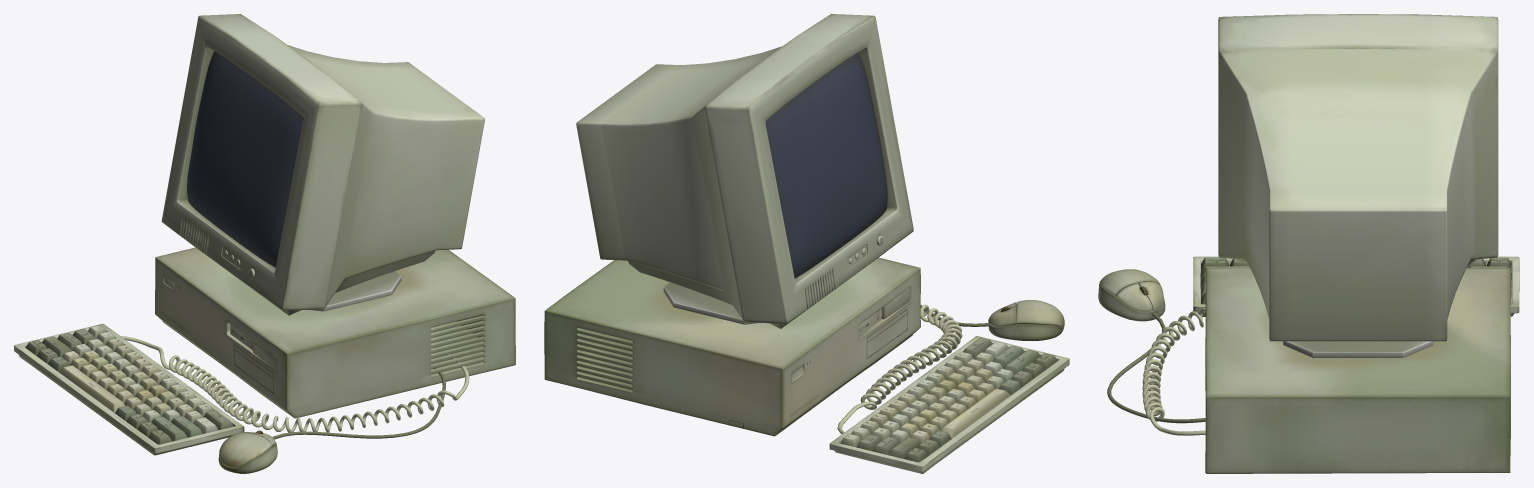
File: zombie _computer.glb
3 renders of one model, left to right at view 1: azimuth 30°, elevation 25°; view 2: azimuth 150°, elevation 25°; view 3: azimuth 270°, elevation 25°, orthographic. The views are drawn at different scales.
Visible parts, largest first — view 1: Cube.049, Cube.055, Cube.054, Plane.020, Circle.002, Cube.045, Cube.053, Plane.022, BézierCurve.006, Plane.023; view 2: Cube.049, Cube.055, Cube.054, Plane.020, Cube.045, Circle.002, Cube.053, Plane.023, Plane.022; view 3: Cube.049, Cube.055, Circle.002, Cube.053, Cube.045, Plane.020, Plane.021, Plane.023, Plane.022, BézierCurve.006.
Boxes of the visible parts, x1,y1,x2,y2 form: Cube.049: (161, 14, 484, 315); Cube.055: (155, 247, 515, 418); Cube.054: (187, 51, 303, 267); Plane.020: (25, 325, 233, 444); Circle.002: (121, 336, 469, 432); Cube.045: (14, 323, 244, 455); Cube.053: (310, 271, 401, 311); Plane.022: (219, 432, 272, 467); BézierCurve.006: (272, 364, 445, 439); Plane.023: (218, 444, 277, 473); Cube.049: (576, 14, 913, 328); Cube.055: (544, 257, 920, 436); Cube.054: (765, 53, 887, 278); Plane.020: (840, 337, 1057, 462); Cube.045: (829, 336, 1069, 473); Circle.002: (837, 304, 962, 434); Cube.053: (663, 282, 756, 324); Plane.023: (988, 321, 1064, 340); Plane.022: (1016, 300, 1064, 326); Cube.049: (1218, 14, 1498, 341); Cube.055: (1205, 267, 1510, 473); Circle.002: (1142, 308, 1205, 435); Cube.053: (1283, 341, 1433, 357); Cube.045: (1193, 256, 1519, 316); Plane.020: (1200, 257, 1511, 304); Plane.021: (1116, 281, 1163, 310); Plane.023: (1098, 283, 1165, 321); Plane.022: (1099, 269, 1160, 296); BézierCurve.006: (1107, 312, 1205, 423).
Bounding box in the file's own units: 7.36 × 5.93 × 6.35.
7 materials, 5 textured.
